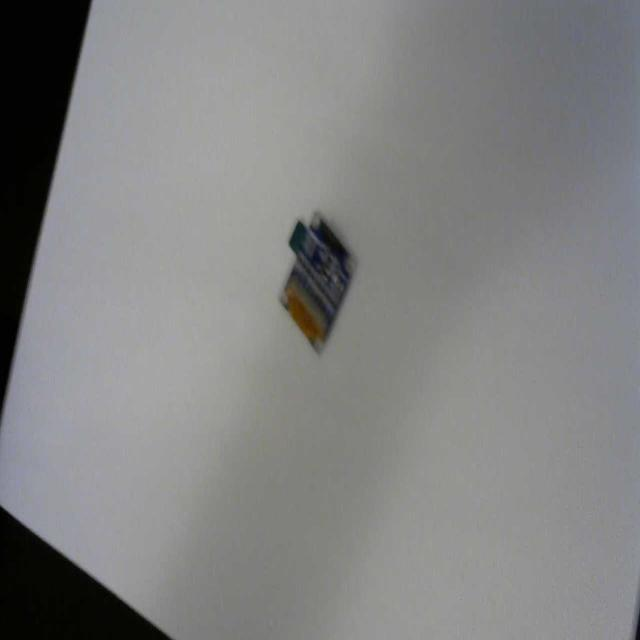oled: (276, 206, 358, 358)
